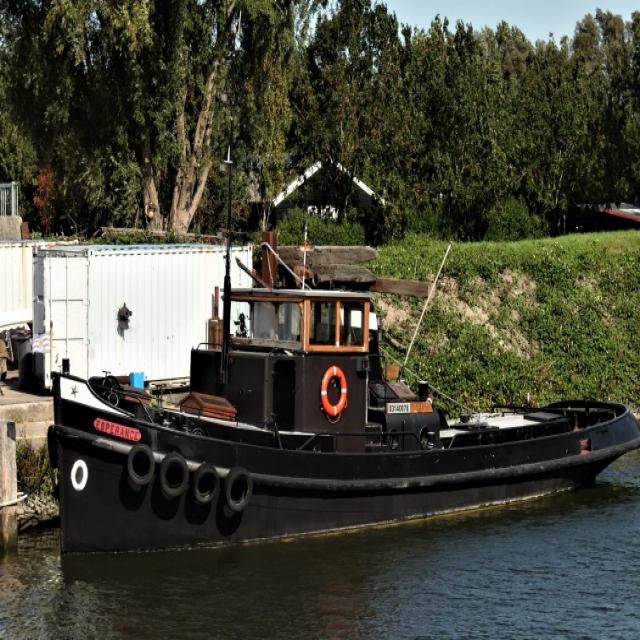tugboat: (45, 267, 640, 575)
